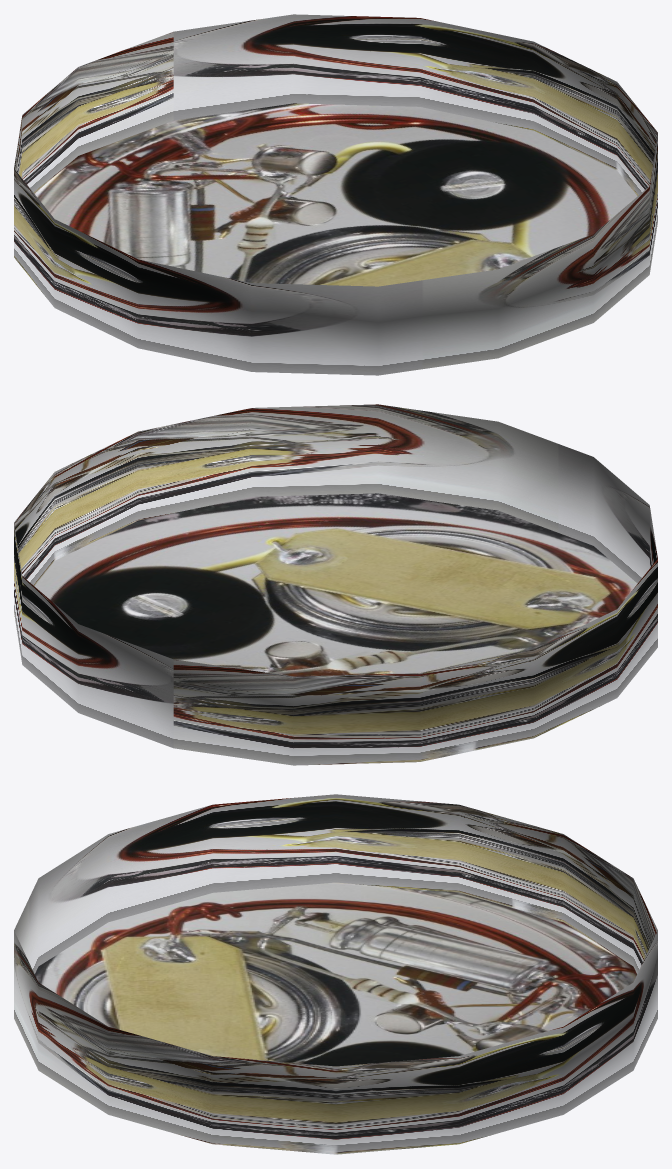
Rendered from heartthing.glb.
3 renders of one model, top to bottom at view 1: azimuth 30°, elevation 25°; view 2: azimuth 150°, elevation 25°; view 3: azimuth 270°, elevation 25°, orthographic.
Visible parts, largest first — view 1: hearthing; view 2: hearthing; view 3: hearthing.
Boxes of the visible parts, x1,y1,x2,y2 form: hearthing: (14,14,657,375); hearthing: (14,404,657,765); hearthing: (14,794,657,1154).
Bounding box in the file's own units: 0.0704 × 0.0106 × 0.0704.
Materials: 1 (1 with a texture image).
